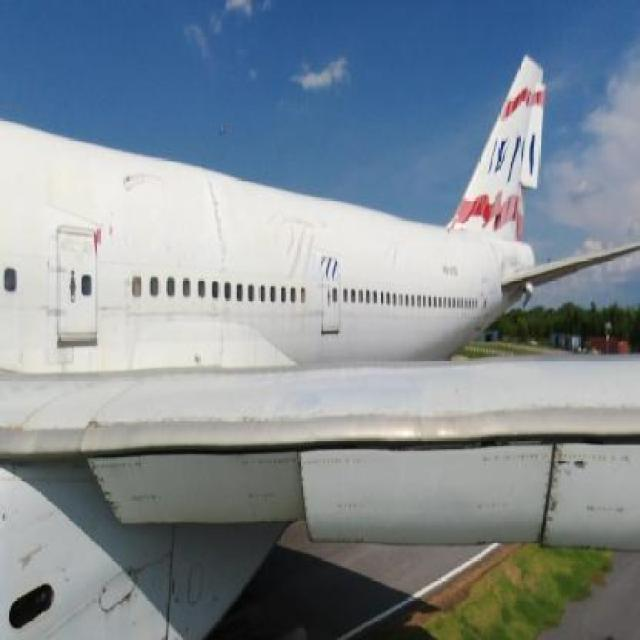Scartch: (548, 451, 604, 526), (97, 464, 143, 518)
